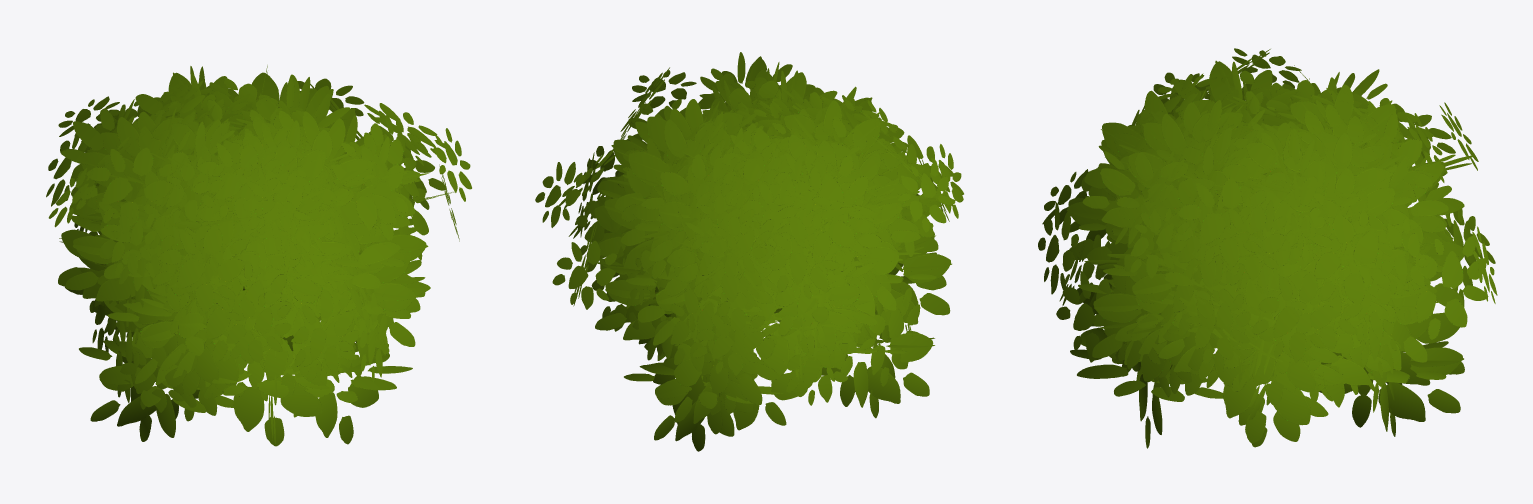
Rendered from mk-bush.glb.
3 views of the same model, side by side, from view 1: azimuth 30°, elevation 25°; view 2: azimuth 150°, elevation 25°; view 3: azimuth 270°, elevation 25° (orthographic). The views are drawn at different scales.
Visible parts, largest first — view 1: Bush_Common_Flowers; view 2: Bush_Common_Flowers; view 3: Bush_Common_Flowers.
Boxes of the visible parts, <box> form: Bush_Common_Flowers: <box>46,65,471,446</box>; Bush_Common_Flowers: <box>535,52,963,451</box>; Bush_Common_Flowers: <box>1038,48,1497,448</box>.
Bounding box in the file's own units: 1.76 × 1.64 × 1.75.
1 material, 1 textured.
